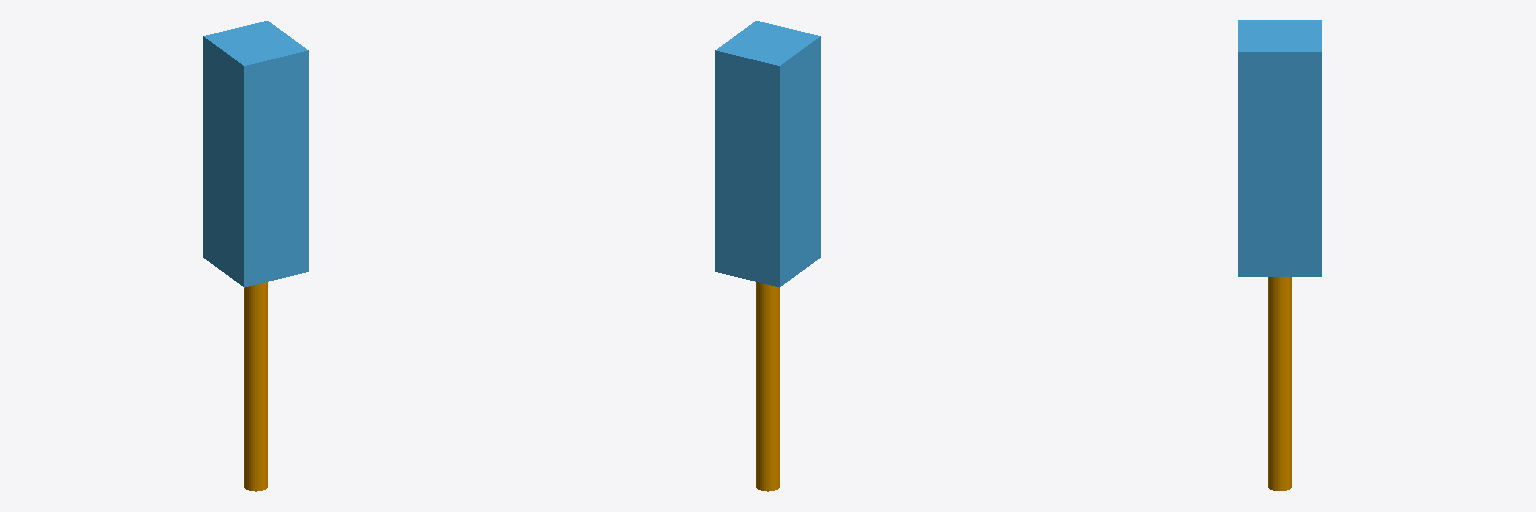
URDF robot description (screwdriver_on_the_table):
<?xml version="1.0" ?>
<!-- this is the one without any virtual joints and links -->
<robot name="screwdriver_on_the_table">
<link name="screwdriver_stick">
    <inertial>
      <mass value="0.05"/>
      <!-- <friction value="1.0"/> -->
      <inertia ixx="0.000041979" ixy="0.0" ixz="0.0" iyy="0.000041979" iyz="0.0" izz="0.000000625"/>
    </inertial>
    <visual>
        <origin rpy="0 0 0" xyz="0 0 0.05"/>
        <geometry>
            <cylinder radius="0.005" length="0.1"/>
        </geometry>
        <!-- <material name="White">
	 	    <color rgba="0.9 0.9 0.9 0.5"/>
        </material> -->
    </visual>
    <collision>
        <origin rpy="0 0 0" xyz="0 0 0.05"/>
        <geometry>
            <cylinder radius="0.005" length="0.1"/>
        </geometry>
    </collision>
</link>

<gazebo reference="screwdriver_body">
    <mu1>0.814121</mu1>
    <mu2>1.000240</mu2>
    <!-- Isaac Sim maps mu1/mu2 to PhysX static/dynamic friction during URDF→USD import -->
</gazebo>

<joint name="screwdriver_stick_body_joint" type="fixed">
    <parent link="screwdriver_stick"/>
    <child link="screwdriver_body"/>
    <origin rpy="0 0 0" xyz="0 0 0.1"/> 
    <axis xyz="0 0 1"/>
</joint>

<link name="screwdriver_body">
    <inertial>
      <mass value="0.162052"/>
      <inertia ixx="0.000150159" ixy="0.0" ixz="0.0" iyy="0.000147548" iyz="0.0" izz="0.000027621"/>
    </inertial>
    <visual>
        <origin rpy="0 0 0" xyz="0 0 0.05"/>
        <geometry>
            <box size="0.030430 0.033457 0.100000"/>
        </geometry>
        <!-- <material name="Red1">
	 	    <color rgba="0.9 0. 0. 0.5"/>
        </material> -->
    </visual>
    <collision>
        <origin rpy="0 0 0" xyz="0 0 0.05"/>
        <geometry>
            <box size="0.030430 0.033457 0.100000"/>
        </geometry>
    </collision>
</link>

<!-- <joint name="screwdriver_body_cap_joint" type="revolute">
    <parent link="screwdriver_body"/>
    <child link="screwdriver_cap"/>
    <origin rpy="0 0 0" xyz="0 0 0.1"/> 
    <axis xyz="0 0 1"/>
</joint>

<link name="screwdriver_cap">
    <inertial>
      <mass value="0.005"/>
      <inertia ixx="0.00001" ixy="0.0" ixz="0.0" iyy="0.000005" iyz="0.0" izz="0.000005"/>
    </inertial>
    <visual>
        <origin rpy="0 0 0" xyz="0 0 0.0006"/>
        <geometry>
            <cylinder radius="0.02" length="0.001"/>
        </geometry>
        <material name="Yellow">
	 	    <color rgba="0.9 0.9 0. 1.0"/>
        </material>
    </visual>
    <collision>
        <origin rpy="0 0 0" xyz="0 0 0.0005"/>
        <geometry>
            <cylinder radius="0.02" length="0.001"/>
        </geometry>
    </collision>
</link> -->

</robot>

--- What the picture shows (computed from the rendered views, not written in the file) ---
3 views of the same robot in one strip: view 1: azimuth 30°, elevation 25°; view 2: azimuth 150°, elevation 25°; view 3: azimuth 270°, elevation 25° (orthographic).
Model screwdriver_on_the_table with 2 links and 1 joints (1 fixed), rooted at screwdriver_stick, posed all joints at 0.
Links seen in each view (by area): view 1: screwdriver_body, screwdriver_stick; view 2: screwdriver_body, screwdriver_stick; view 3: screwdriver_body, screwdriver_stick.
Link boxes in pixels (x1,y1,x2,y2): screwdriver_body: (203, 21, 308, 287); screwdriver_stick: (244, 282, 267, 491); screwdriver_body: (715, 21, 820, 287); screwdriver_stick: (756, 282, 779, 491); screwdriver_body: (1238, 20, 1321, 276); screwdriver_stick: (1268, 277, 1291, 490).
Size in the robot's own frame: 0.0304 by 0.0335 by 0.2 metres.
Geometry: primitives only (box / cylinder / sphere), no mesh files.
